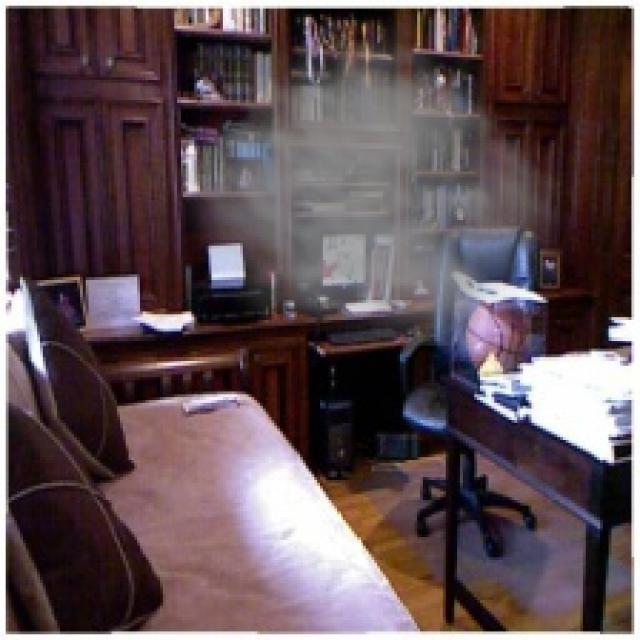Smoke: (163, 3, 580, 346)
